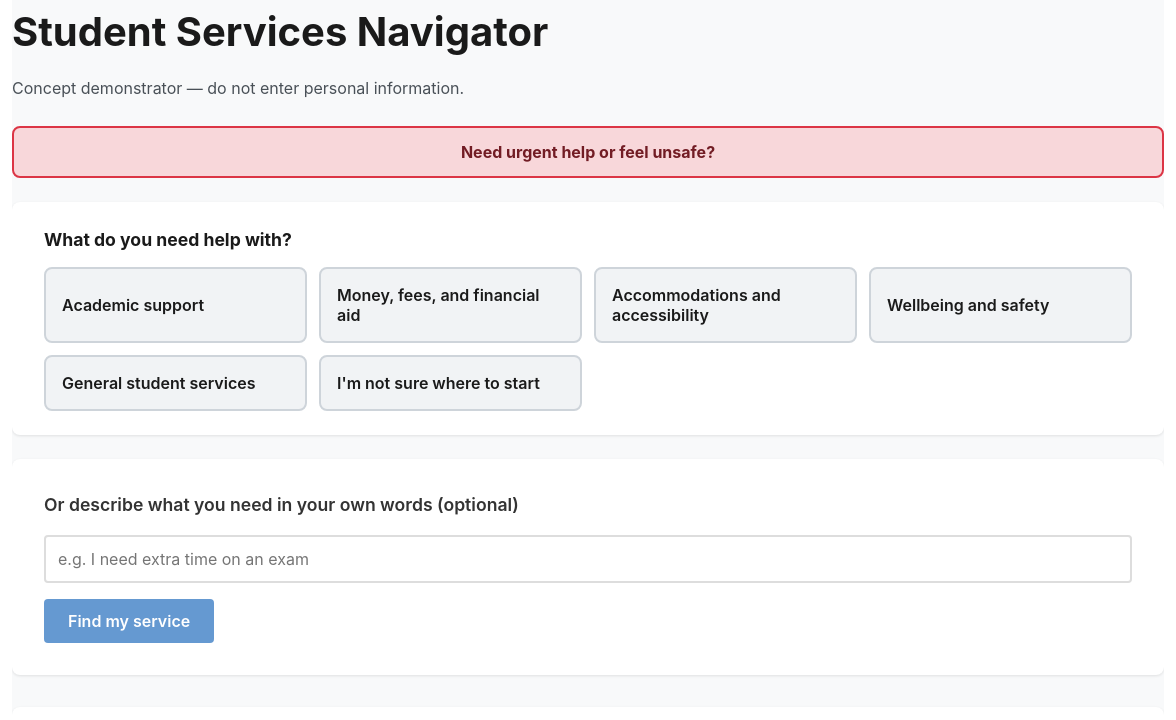
Test case: A-04: state changes are announced › a safety escalation uses role="alert" (assertive by default)
Click the button "Need urgent help or feel unsafe?": (588, 152) [12,126,1164,178]
(page scrolled)
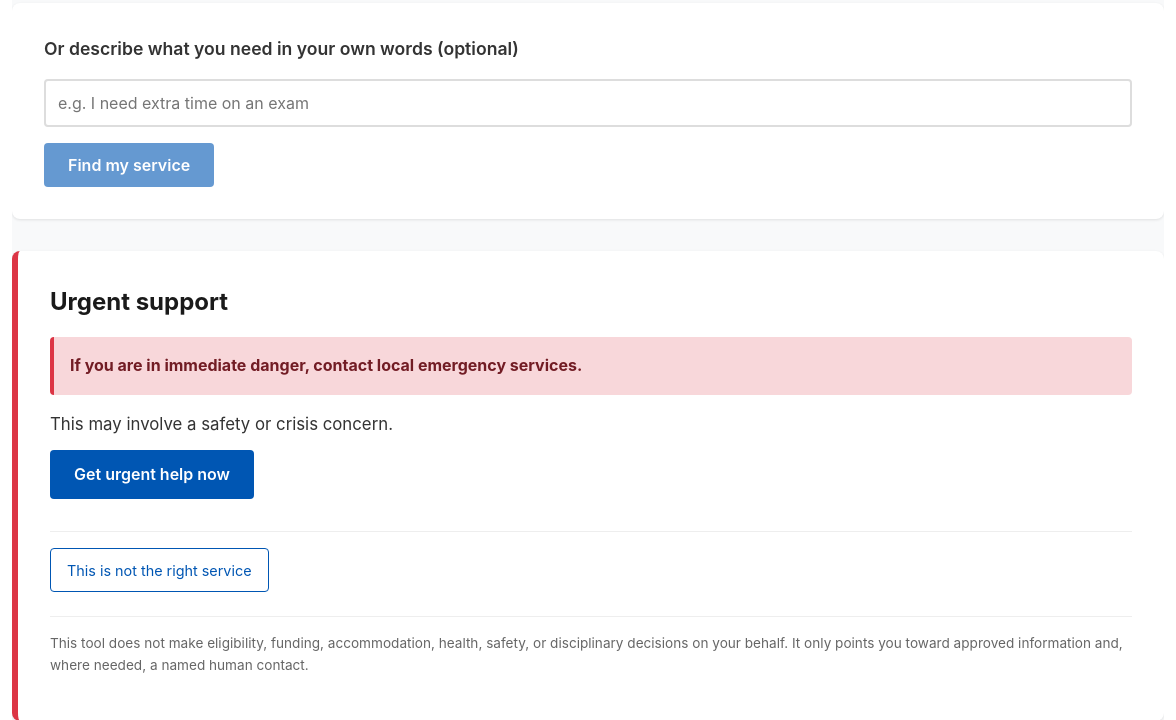
Expected: the message "If you are in immediate danger, contact local emergency services." is shown, [50,337,1132,395]
